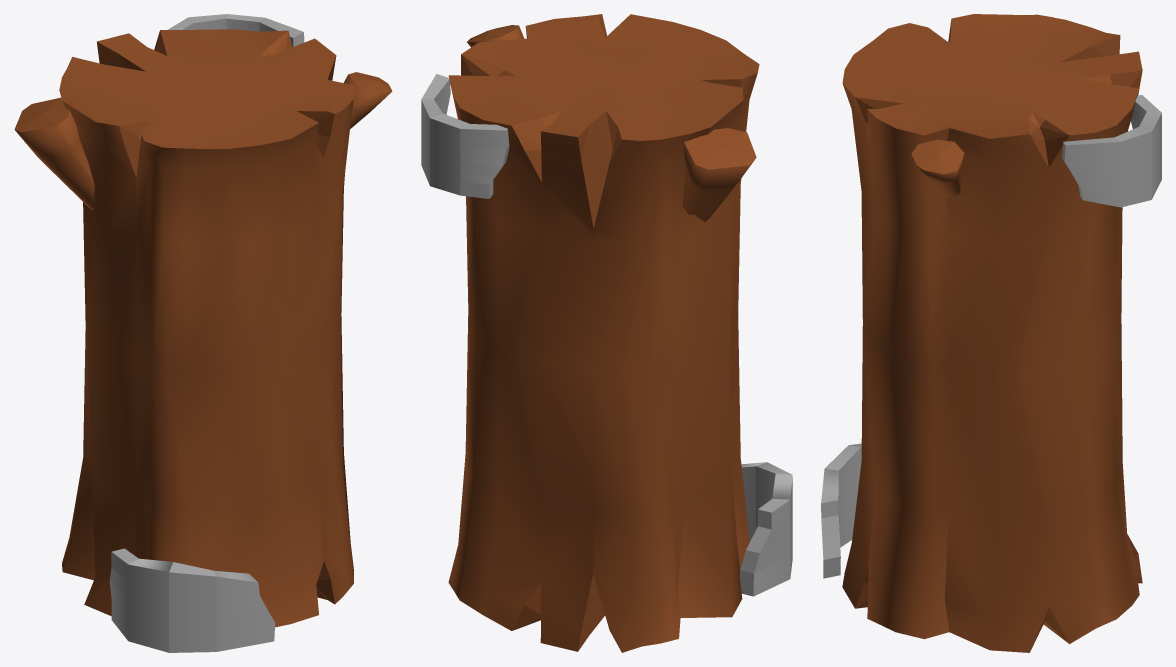
The model's file is MediumWoodenBox.fbx.
The picture shows the model from 3 angles, left to right: view 1: azimuth 30°, elevation 25°; view 2: azimuth 150°, elevation 25°; view 3: azimuth 270°, elevation 25°; orthographic projection. The views are drawn at different scales.
Visible parts, largest first — view 1: Wood3, Cube, Branch_1, Cube.001, Branch_2; view 2: Wood3, Cube.001, Cube, Branch_1, Branch_2; view 3: Wood3, Cube.001, Cube, Branch_2.
Boxes of the visible parts, x1,y1,x2,y2 form: Wood3: [59, 29, 353, 627]; Cube: [109, 548, 275, 652]; Branch_1: [14, 97, 94, 210]; Cube.001: [168, 14, 304, 47]; Branch_2: [344, 72, 392, 128]; Wood3: [448, 14, 759, 652]; Cube.001: [421, 73, 509, 198]; Cube: [740, 462, 792, 596]; Branch_1: [682, 128, 756, 221]; Branch_2: [467, 25, 524, 47]; Wood3: [842, 14, 1142, 652]; Cube.001: [1062, 95, 1161, 207]; Cube: [821, 443, 861, 578]; Branch_2: [911, 139, 964, 197].
Size of the model in its own units: 132 by 195 by 116.
